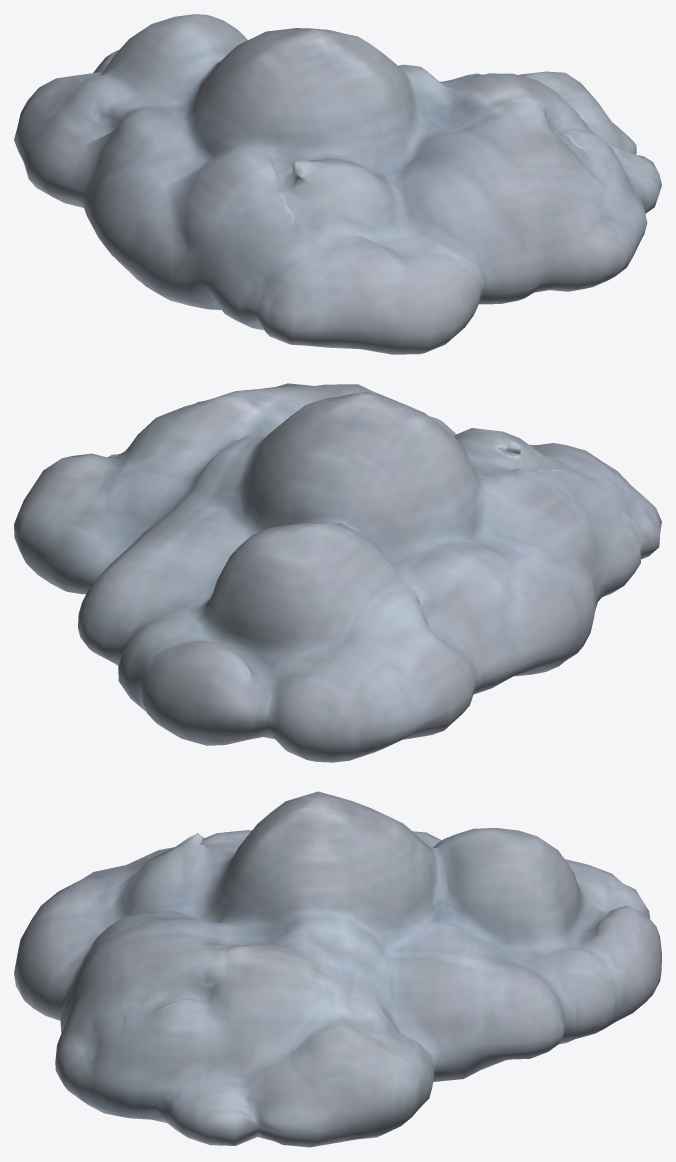
3 renders of one model, top to bottom at view 1: azimuth 30°, elevation 25°; view 2: azimuth 150°, elevation 25°; view 3: azimuth 270°, elevation 25°, orthographic. The views are drawn at different scales.
Parts seen in each view (by area): view 1: mesh; view 2: mesh; view 3: mesh.
Part boxes in pixels (left/top/right/bottom): mesh: left=14, top=14, right=661, bottom=354; mesh: left=14, top=383, right=661, bottom=762; mesh: left=14, top=791, right=661, bottom=1147.
Size of the model in its own units: 0.9012 by 0.3701 by 0.9993.
1 material, 1 textured.
